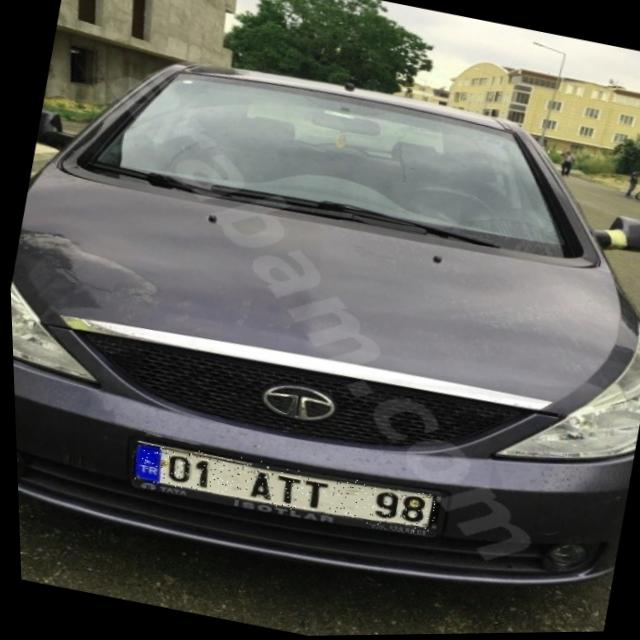license_plate: (127, 434, 438, 542)
